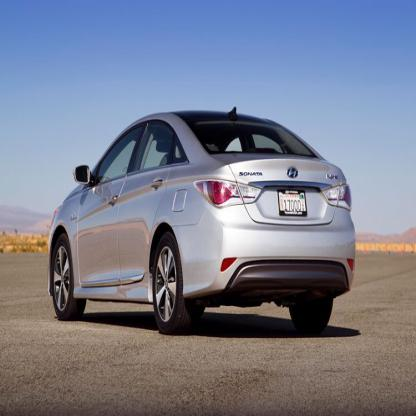Vehicle: (47, 106, 357, 332)
